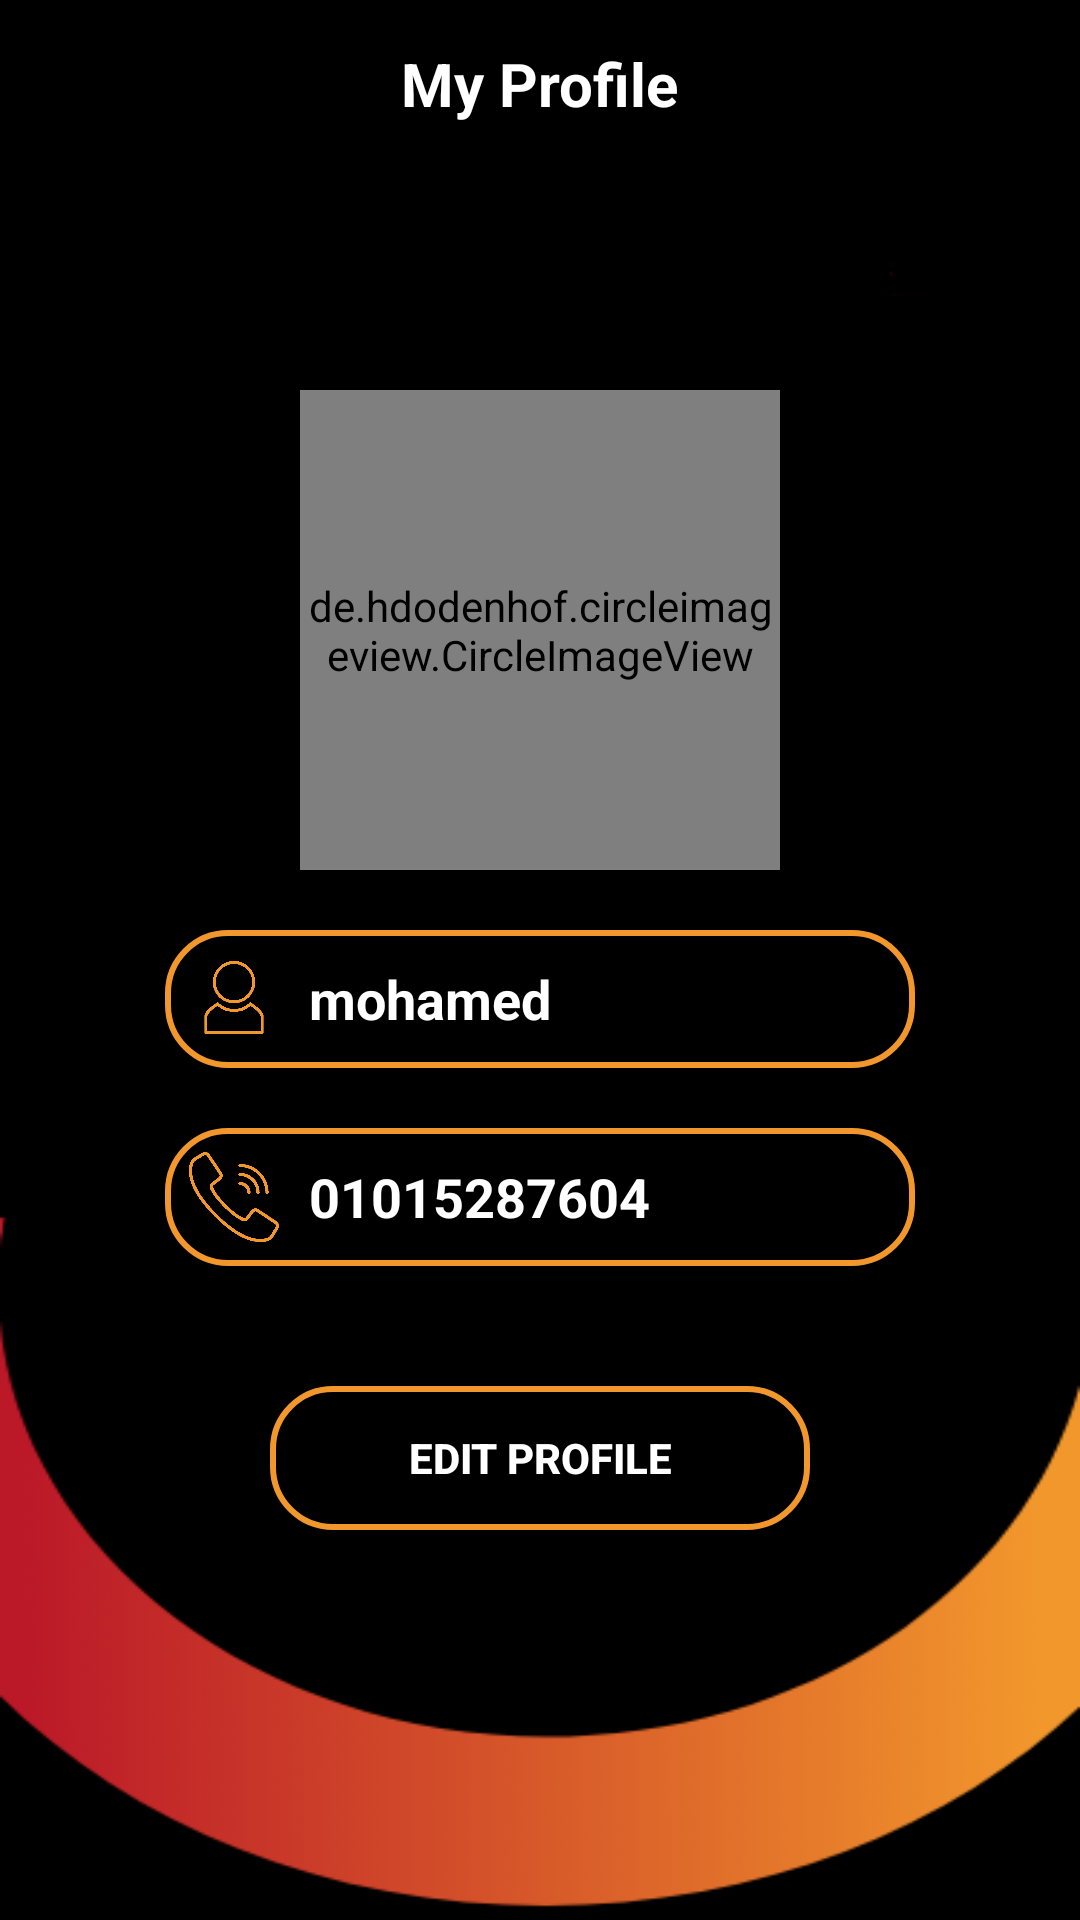

Icons on this 1080*1920 Android screen, each with the point to tap as [x,y]:
phone: [234,1197]
user: [234,997]
